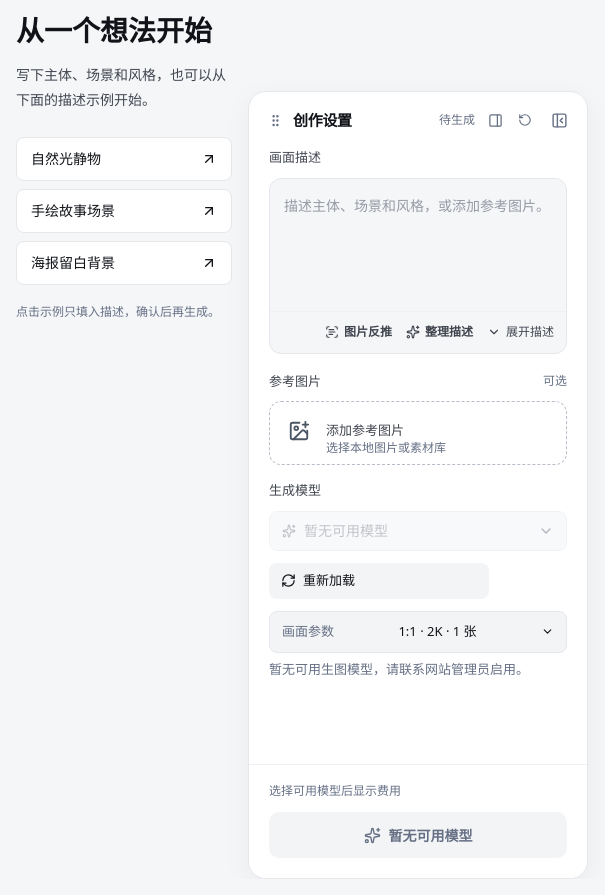
Test: reloads enabled models after an empty list and recalculates cost for the selected model
Expected: the dropdown named "模型选择" is disabled, [269, 510, 567, 550]
Click the button with aria-label "重新加载模型列表": click(379, 580) [269, 562, 489, 598]
Wait 150 ms
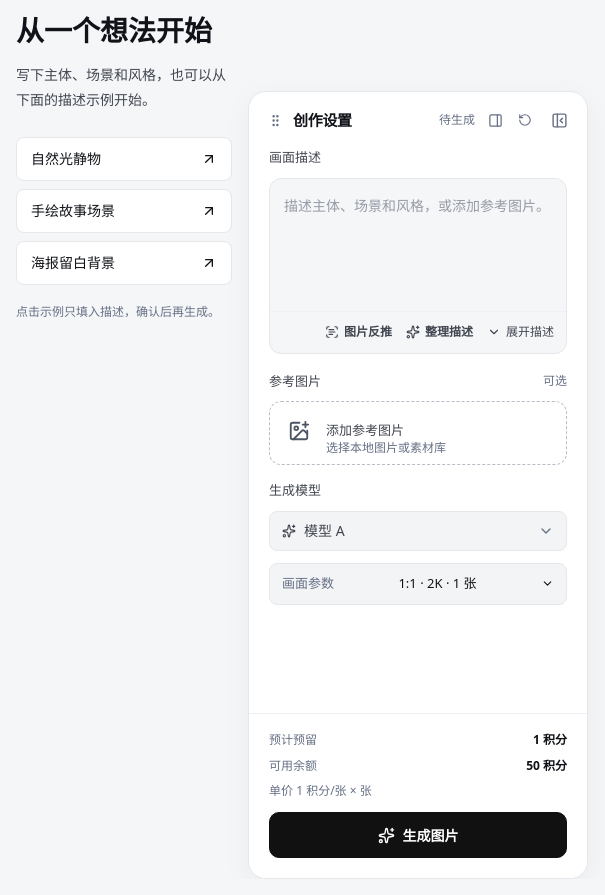
Now the dropdown named "模型选择" reads "模型 A"
Now the text "1 积分" is shown, box [533, 730, 567, 750]
Press ArrowDown in the dropdown named "模型选择", box [269, 510, 567, 550]
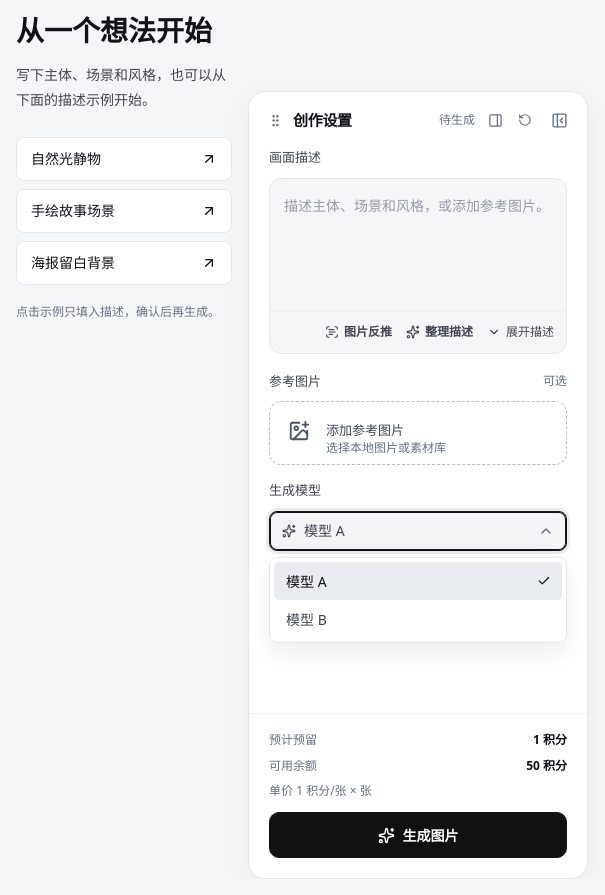
Click the option "模型 B": click(306, 619) [286, 610, 327, 628]
Wait 150 ms
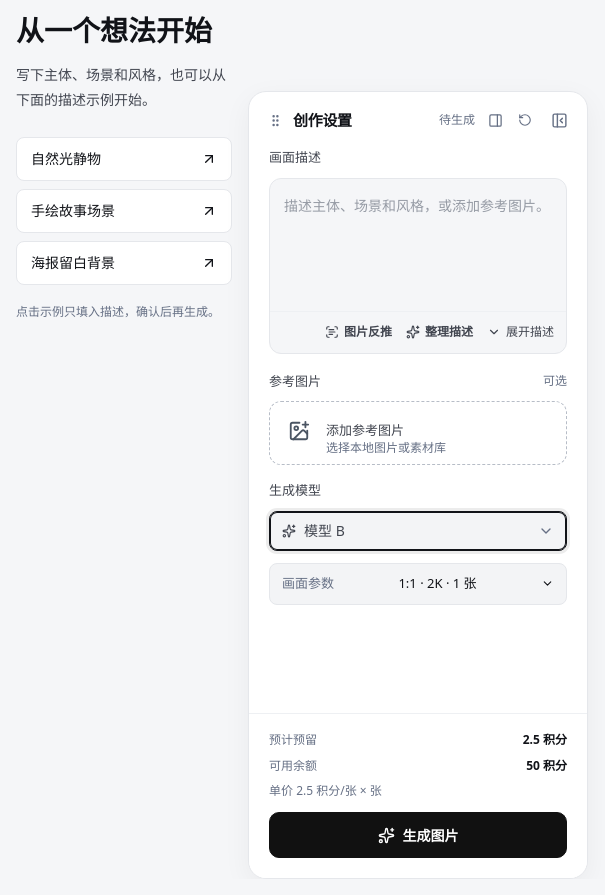
Now the dropdown named "模型选择" reads "模型 B", box [269, 510, 567, 550]
Now the text "2.5 积分" is shown, box [523, 730, 567, 750]
